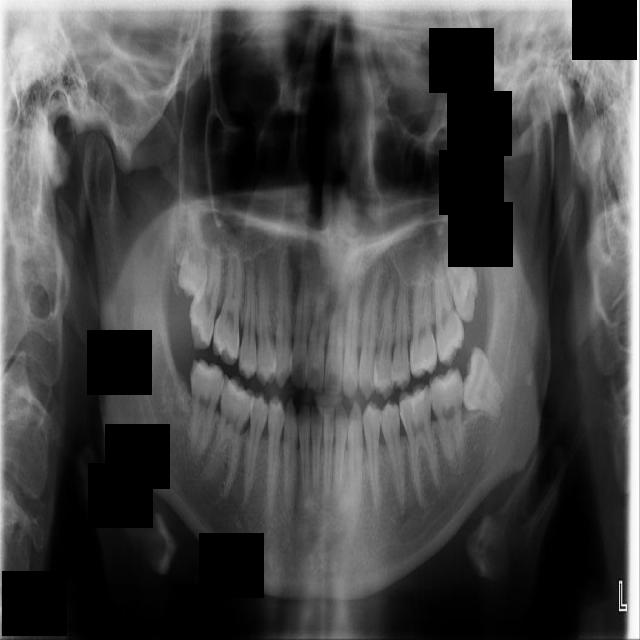3M ESPE Implant: (177, 208, 210, 303)
73: (597, 588, 608, 602)
BioHorizons Implant: (432, 265, 466, 366)
BioLife Implant: (439, 244, 488, 323)
Biomet 3i Implant: (454, 344, 517, 419)
Blue Sky Bio Implant: (428, 367, 466, 473)
Caries: (183, 241, 228, 352)
Implant: (181, 359, 226, 458)
